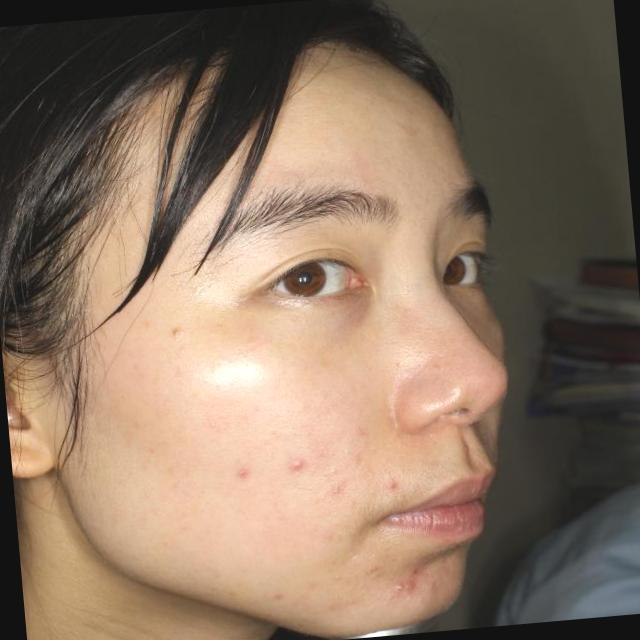acne: (392, 569, 424, 601), (356, 557, 388, 584), (286, 452, 314, 476), (380, 475, 409, 498), (325, 475, 344, 505), (236, 462, 256, 479)
